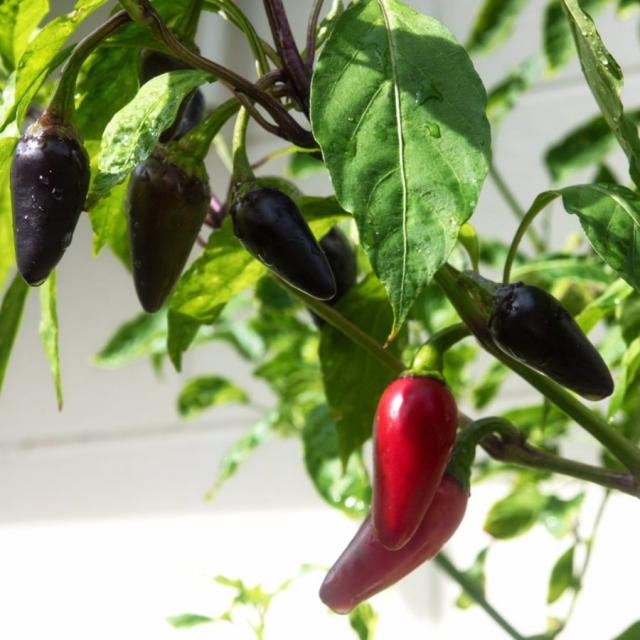aji: (368, 363, 478, 565), (501, 272, 626, 411), (130, 135, 212, 315), (12, 133, 94, 295), (238, 190, 347, 300)
